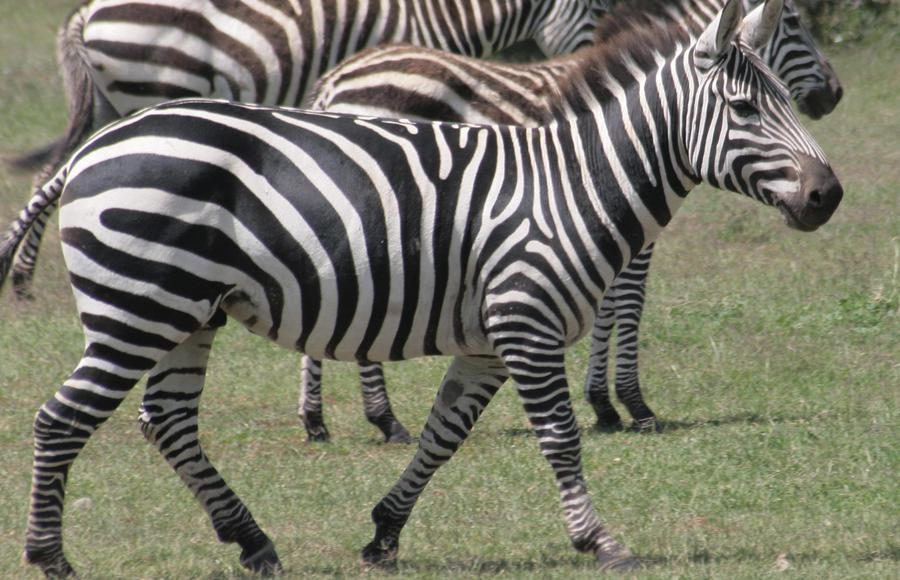zebra_plains: (51, 98, 606, 353)
